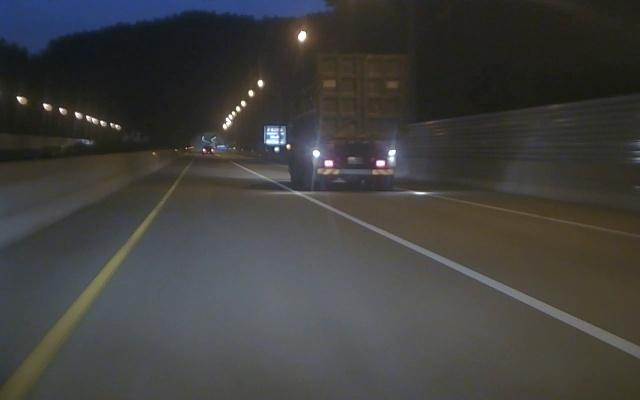lane: (307, 196, 639, 358), (4, 201, 163, 399), (454, 198, 640, 239)
